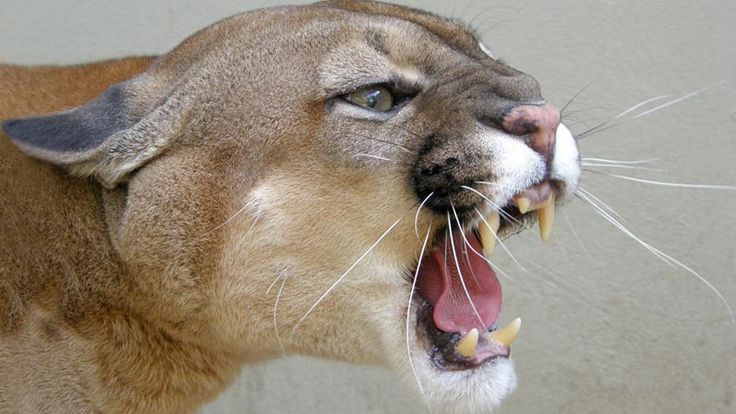OncaParda: (5, 9, 595, 406)
